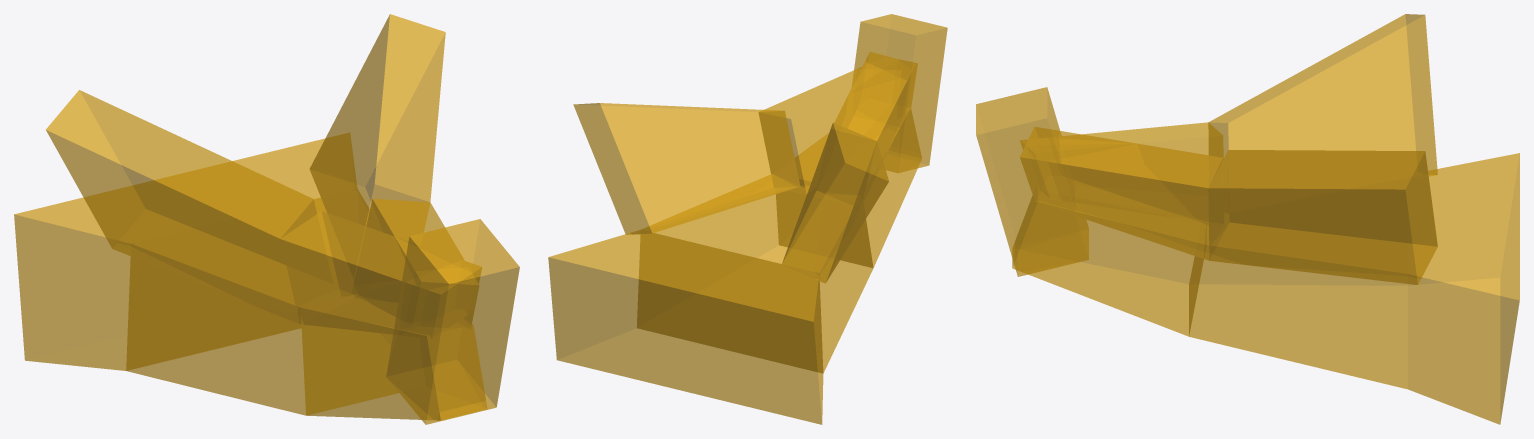
File: SM_Veh_Ship_M_Ram_04_Collision.fbx
The picture shows the model from 3 angles, left to right: view 1: azimuth 30°, elevation 25°; view 2: azimuth 150°, elevation 25°; view 3: azimuth 270°, elevation 25°; orthographic projection. The views are drawn at different scales.
Visible parts, largest first — view 1: SM_Veh_Ship_M_Ram_04_Collision; view 2: SM_Veh_Ship_M_Ram_04_Collision; view 3: SM_Veh_Ship_M_Ram_04_Collision.
Boxes of the visible parts, x1,y1,x2,y2 form: SM_Veh_Ship_M_Ram_04_Collision: [14, 14, 519, 424]; SM_Veh_Ship_M_Ram_04_Collision: [548, 14, 947, 424]; SM_Veh_Ship_M_Ram_04_Collision: [976, 14, 1519, 424].
Size of the model in its own units: 779 by 555 by 1019.
